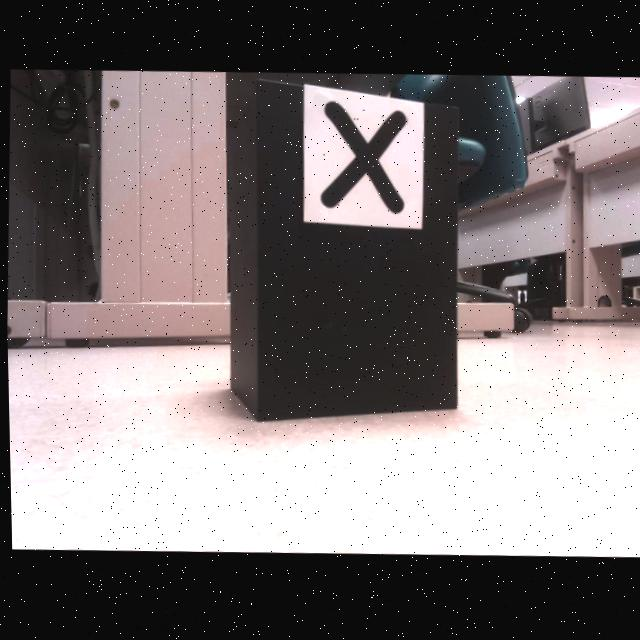X: (319, 102, 406, 216)
